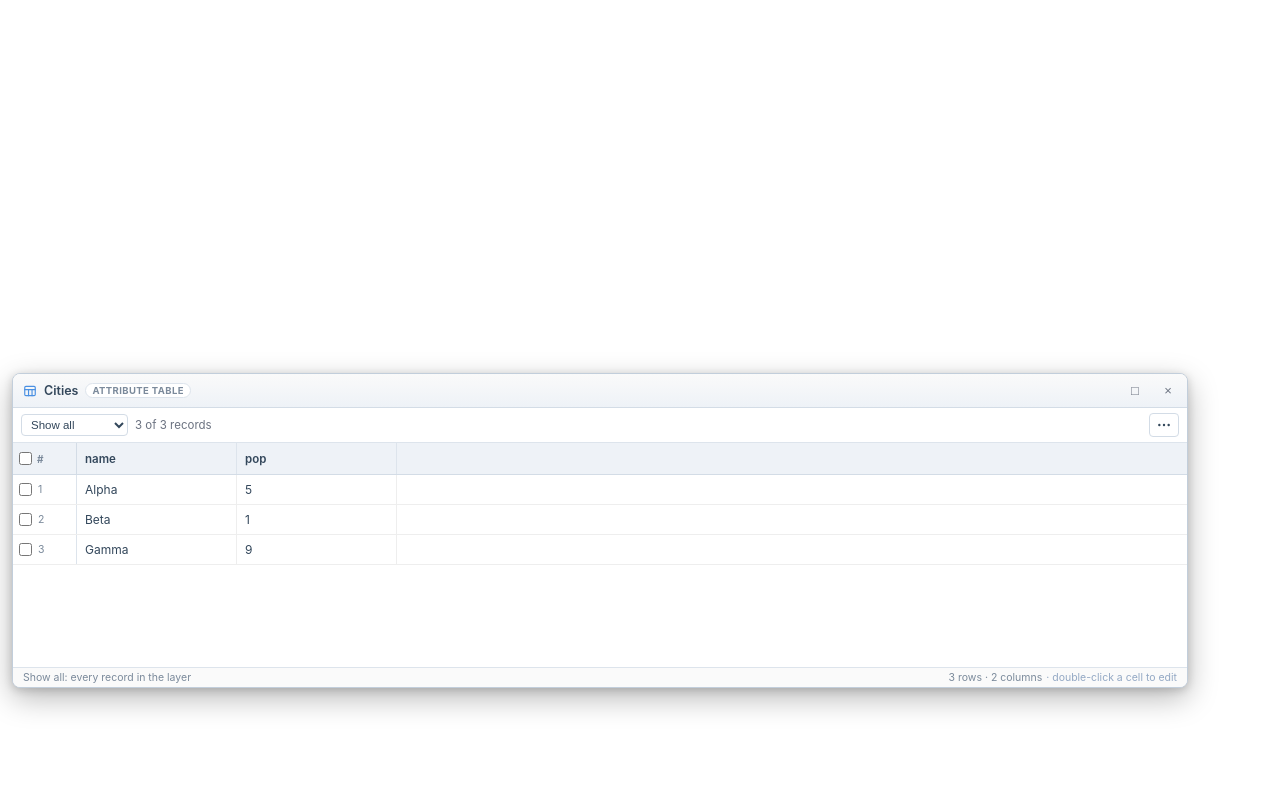
AttributeTableWindow › filters to checked rows in "Show selected" mode
Click the checkbox named "Select row 2" at (26, 520), box 19,513 -> 32,526
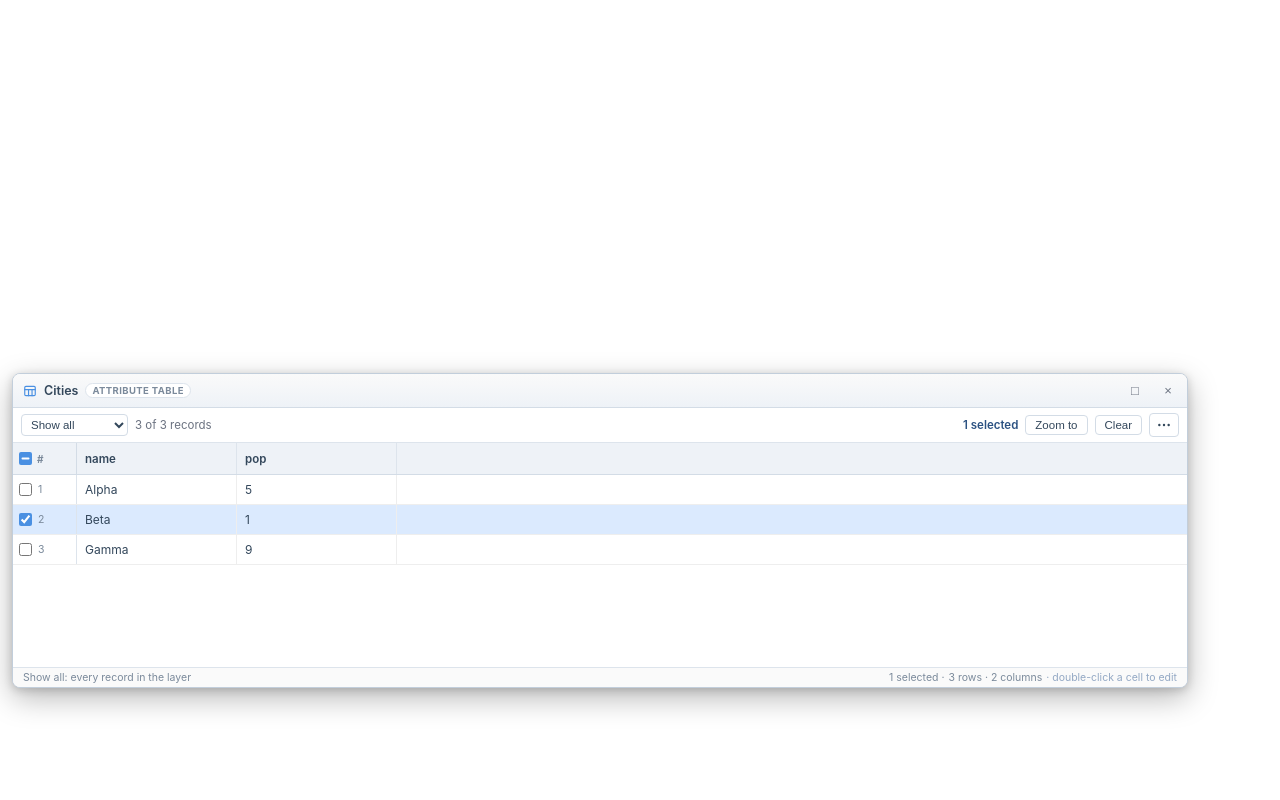
Select "Show selected" in the dropdown showing "Show all" at (74, 425), box 21,414 -> 128,436
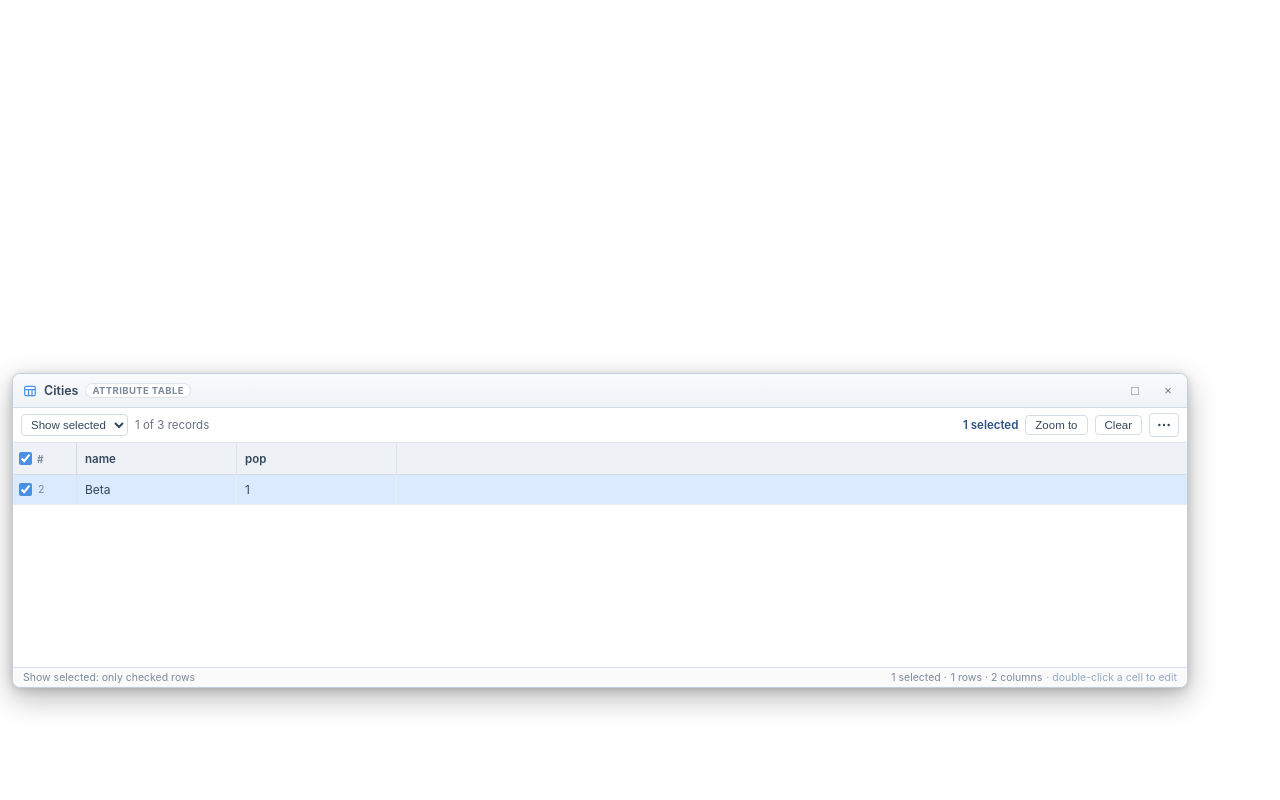
Check: the element with class "attr-table-row" shows "Beta", box 85,482 -> 111,497
Check: the text "1 of 3 records" is shown, box 135,418 -> 209,432
